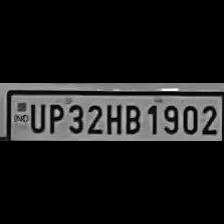0: (178, 102, 198, 134)
1: (142, 101, 160, 135)
2: (198, 101, 218, 135), (84, 102, 104, 134)
3: (64, 102, 84, 134)
9: (160, 101, 180, 135)
B: (122, 101, 142, 135)
H: (102, 100, 122, 134)
P: (46, 100, 64, 134)
U: (27, 100, 46, 134)
